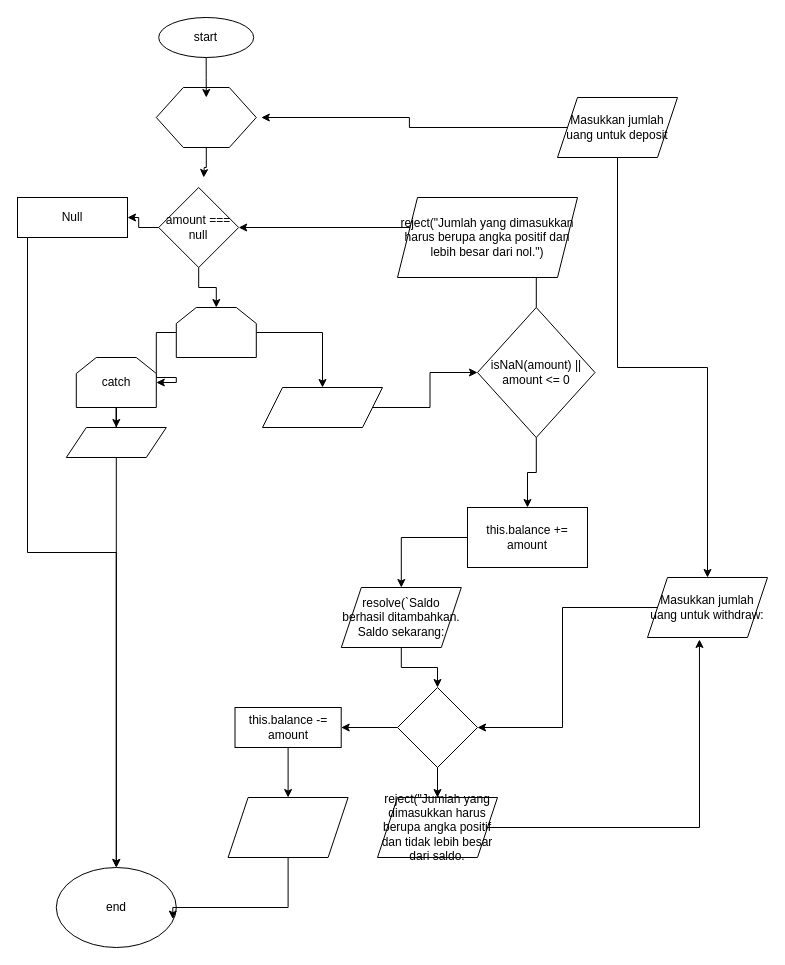
This 785x965 diagram has some shape labels left out. The shapes that lost their labels are listed below. From the top down, each one's centre as x and y in pixels, then its label:
(x=205, y=117): this.balance = 0 let amount
(x=215, y=332): TRY
(x=322, y=407): result
(x=115, y=442): error
(x=437, y=727): isNaN(amount) || amount <= 0 || amount > this.balance
(x=287, y=827): resolve(`Saldo berhasil dikurangi. Saldo sekarang: ${this.balance}
